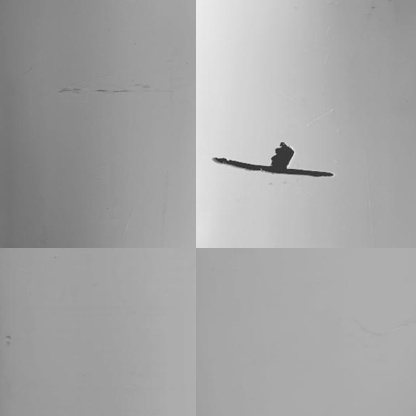fengxi: (213, 156, 339, 182)
kongdong: (270, 140, 295, 171)
